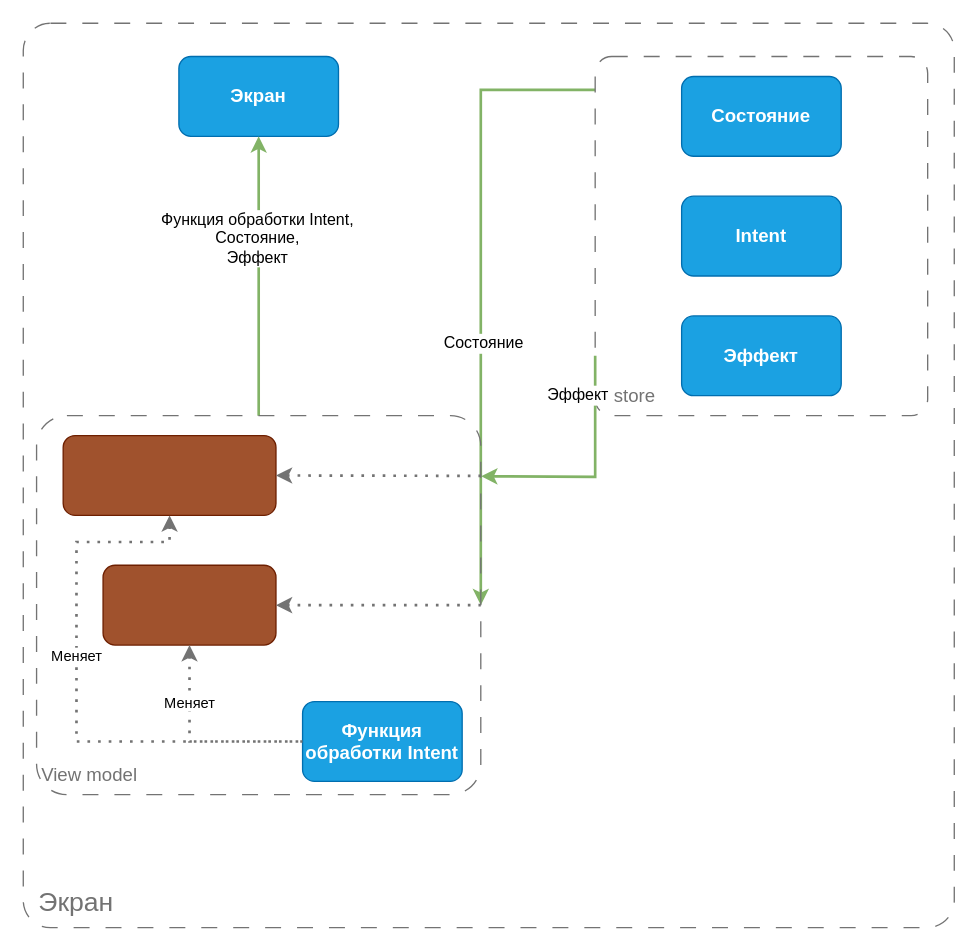
This 978x951 diagram has some shape labels left out. Here are the shapes that lost their labels. From the top down, the centre of each, then its label:
At (x=169, y=474): "mutableSharedFlow Эффект".
At (x=189, y=604): "mutableStateFlow Состояние".
